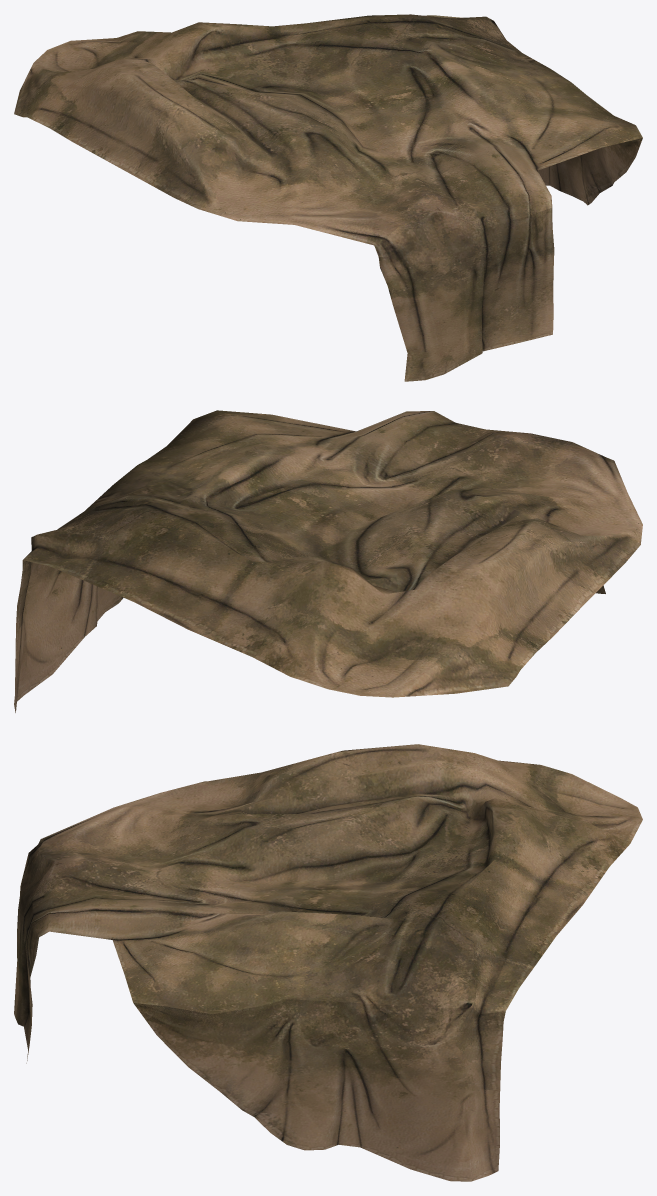
File: bedsheet_old.dae
The picture shows the model from 3 angles, top to bottom: view 1: azimuth 30°, elevation 25°; view 2: azimuth 150°, elevation 25°; view 3: azimuth 270°, elevation 25°; orthographic projection. The views are drawn at different scales.
Parts seen in each view (by area): view 1: bedsheet_old__2_; view 2: bedsheet_old__2_; view 3: bedsheet_old__2_.
Part boxes in pixels (box(x1,y1,x2,y2)): bedsheet_old__2_: box(14, 14, 642, 381); bedsheet_old__2_: box(14, 410, 642, 712); bedsheet_old__2_: box(14, 744, 642, 1181).
Bounding box in the file's own units: 1.52 × 0.646 × 1.63.
